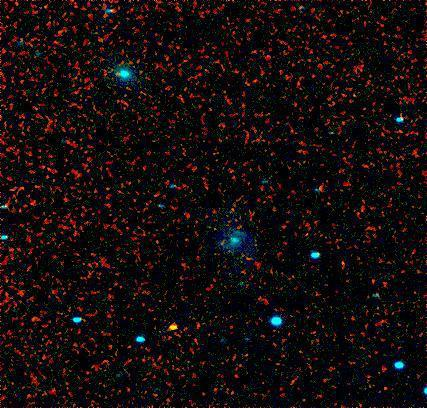star: (159, 312, 189, 342)
